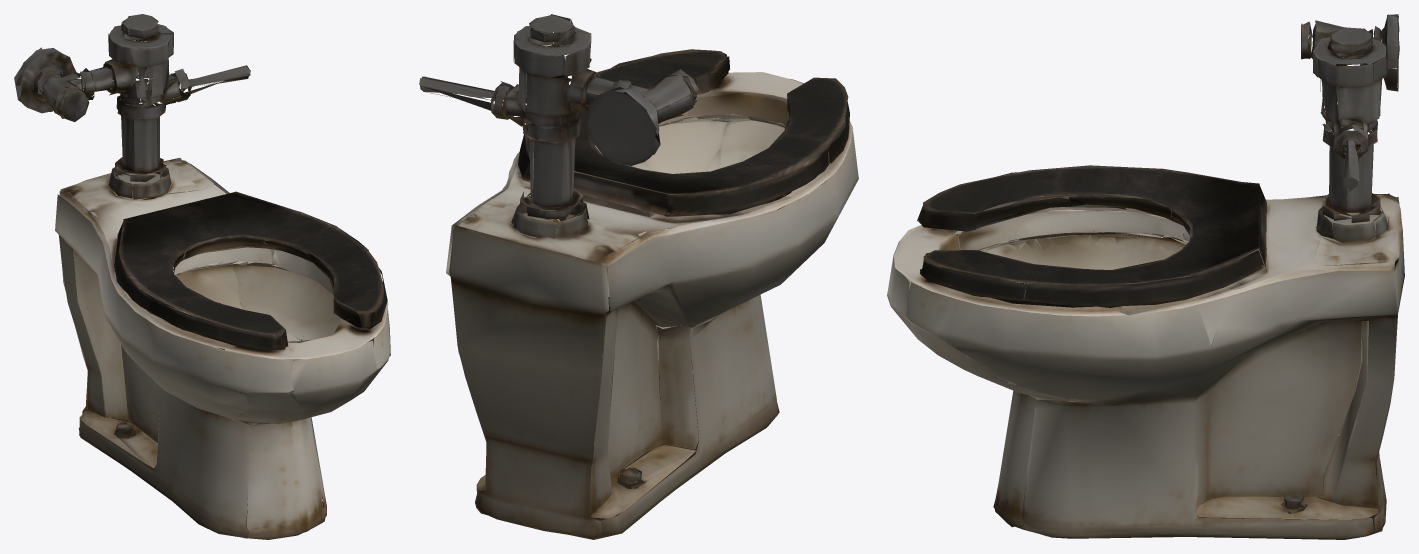
The model's file is toilet.glb.
3 renders of one model, left to right at view 1: azimuth 30°, elevation 25°; view 2: azimuth 150°, elevation 25°; view 3: azimuth 270°, elevation 25°, orthographic. The views are drawn at different scales.
Parts seen in each view (by area): view 1: node_0; view 2: node_0; view 3: node_0.
Part boxes in pixels (left/top/right/bottom): node_0: left=14, top=14, right=390, bottom=539; node_0: left=419, top=14, right=858, bottom=539; node_0: left=887, top=14, right=1404, bottom=539.
Size of the model in its own units: 0.5068 by 0.8653 by 0.8625.
Materials: 1 (1 with a texture image).
